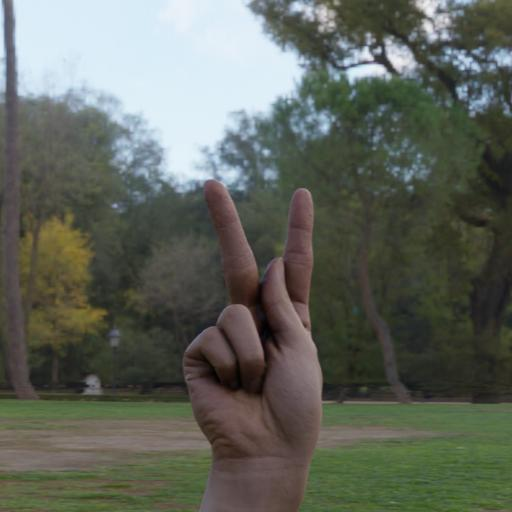K: (178, 174, 328, 506)
